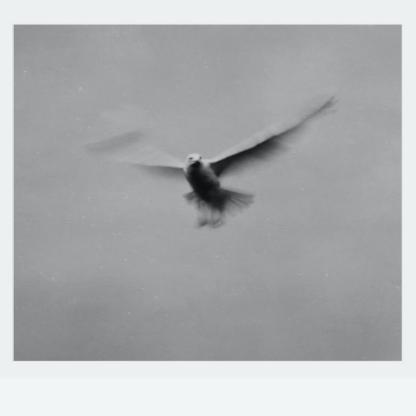bird: (135, 104, 324, 232)
